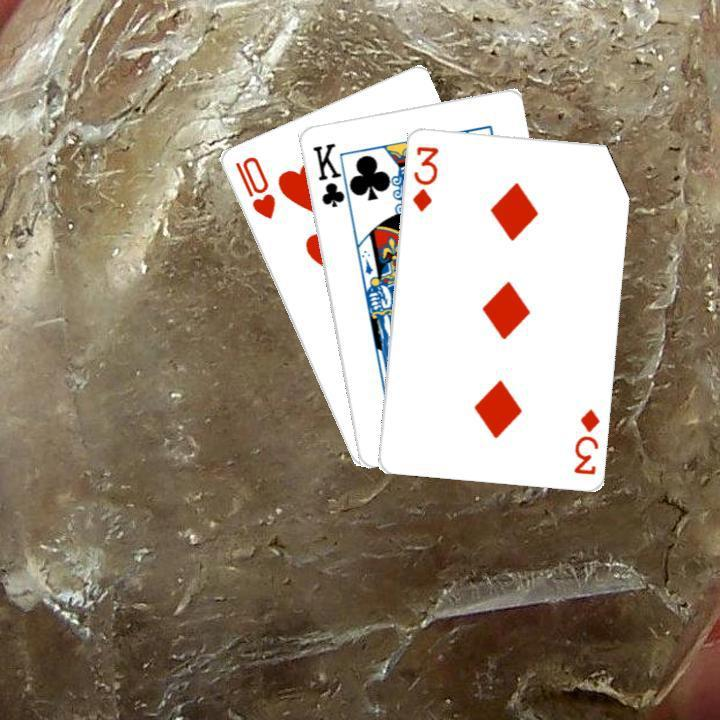10: (230, 152, 277, 221)
3: (408, 141, 441, 214), (569, 404, 601, 476)
K: (308, 138, 354, 213)
